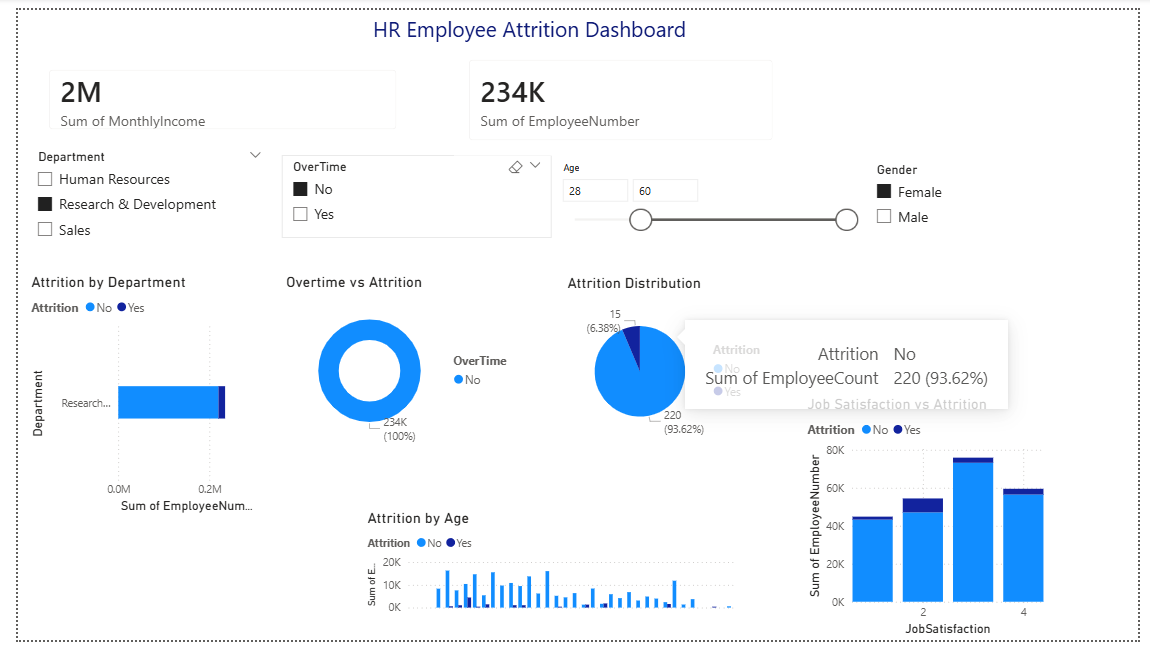

Layout of this report page (visuals, bound fields, positions):
{"tool":"powerbi","page":{"name":"Page 1","canvas":[1280,720],"ordinal":0},"visuals":[{"type":"pieChart","title":"Attrition Distribution","fields":{"Category":["WA_Fn-UseC_-HR-Employee-Attrition.Attrition"],"Y":["Sum(WA_Fn-UseC_-HR-Employee-Attrition.EmployeeCount)"]},"box":[622.9,301.4,247.1,204.3],"z":0},{"type":"barChart","title":"Attrition by Department","fields":{"Category":["WA_Fn-UseC_-HR-Employee-Attrition.Department"],"Y":["Sum(WA_Fn-UseC_-HR-Employee-Attrition.EmployeeNumber)"],"Series":["WA_Fn-UseC_-HR-Employee-Attrition.Attrition"]},"box":[10,300,280,280],"z":1},{"type":"donutChart","title":"Overtime vs Attrition","fields":{"Category":["WA_Fn-UseC_-HR-Employee-Attrition.OverTime"],"Y":["Sum(WA_Fn-UseC_-HR-Employee-Attrition.EmployeeNumber)"]},"box":[301.4,300,280,205.7],"z":3},{"type":"columnChart","title":"Job Satisfaction vs Attrition","fields":{"Category":["WA_Fn-UseC_-HR-Employee-Attrition.JobSatisfaction"],"Y":["Sum(WA_Fn-UseC_-HR-Employee-Attrition.EmployeeNumber)"],"Series":["WA_Fn-UseC_-HR-Employee-Attrition.Attrition"]},"box":[897.1,440,280,280],"z":4},{"type":"slicer","fields":{"Values":["WA_Fn-UseC_-HR-Employee-Attrition.Department"]},"box":[10,154.3,280,135.7],"z":5},{"type":"slicer","fields":{"Values":["WA_Fn-UseC_-HR-Employee-Attrition.Age"]},"box":[610,168.6,358.6,121.4],"z":6},{"type":"slicer","fields":{"Values":["WA_Fn-UseC_-HR-Employee-Attrition.Gender"]},"box":[968.6,168.6,264.3,98.6],"z":7},{"type":"slicer","fields":{"Values":["WA_Fn-UseC_-HR-Employee-Attrition.OverTime"]},"box":[301.4,165.7,308.6,94.3],"z":8},{"type":"clusteredColumnChart","title":"Attrition by Age","fields":{"Category":["WA_Fn-UseC_-HR-Employee-Attrition.Age"],"Y":["Sum(WA_Fn-UseC_-HR-Employee-Attrition.EmployeeNumber)"],"Series":["WA_Fn-UseC_-HR-Employee-Attrition.Attrition"]},"box":[394.3,570,430,127.1],"z":9},{"type":"cardVisual","fields":{"Data":["Sum(WA_Fn-UseC_-HR-Employee-Attrition.EmployeeNumber)"]},"box":[498.8,40,381.2,126.2],"z":10},{"type":"cardVisual","fields":{"Data":["Sum(WA_Fn-UseC_-HR-Employee-Attrition.MonthlyIncome)"]},"box":[18.8,51.2,431.2,102.5],"z":12},{"type":"textbox","box":[336,0,450,54],"z":13}]}

Visuals, with their boxes in screenshot pixels (x1, y1, x2, y2), scaled from the page's 1280x720 canvas onto the 1150x656 screenshot:
"Attrition Distribution" pieChart: <region>560, 275, 782, 461</region>
"Attrition by Department" barChart: <region>9, 273, 261, 528</region>
"Overtime vs Attrition" donutChart: <region>271, 273, 522, 461</region>
"Job Satisfaction vs Attrition" columnChart: <region>806, 401, 1058, 655</region>
slicer - WA_Fn-UseC_-HR-Employee-Attrition.Department: <region>9, 141, 261, 264</region>
slicer - WA_Fn-UseC_-HR-Employee-Attrition.Age: <region>548, 154, 870, 264</region>
slicer - WA_Fn-UseC_-HR-Employee-Attrition.Gender: <region>870, 154, 1108, 243</region>
slicer - WA_Fn-UseC_-HR-Employee-Attrition.OverTime: <region>271, 151, 548, 237</region>
"Attrition by Age" clusteredColumnChart: <region>354, 519, 741, 635</region>
cardVisual - Sum(WA_Fn-UseC_-HR-Employee-Attrition.EmployeeNumber): <region>448, 36, 791, 151</region>
cardVisual - Sum(WA_Fn-UseC_-HR-Employee-Attrition.MonthlyIncome): <region>17, 47, 404, 140</region>
textbox: <region>302, 0, 706, 49</region>
